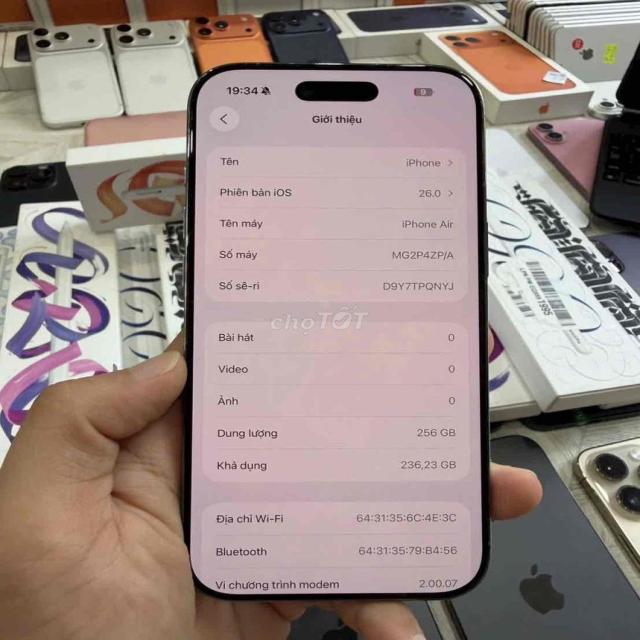gen_17: (172, 53, 506, 600)
